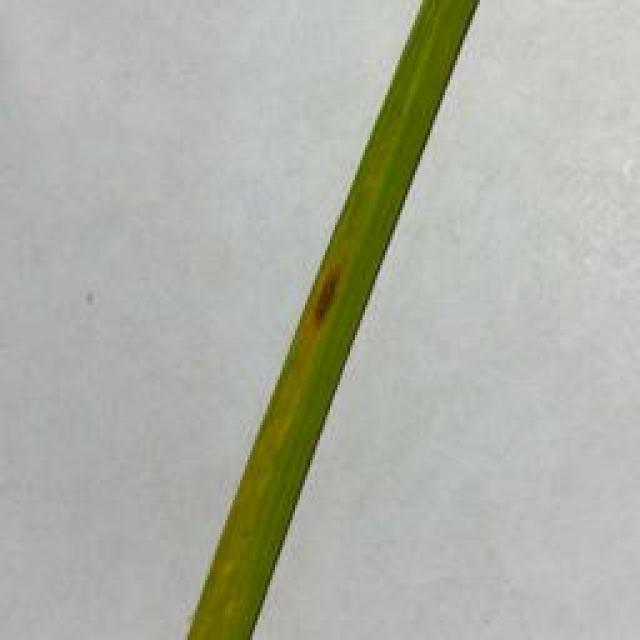Bacterial_Blight: (140, 349, 415, 640)
Brown_Spot: (255, 245, 386, 348)
